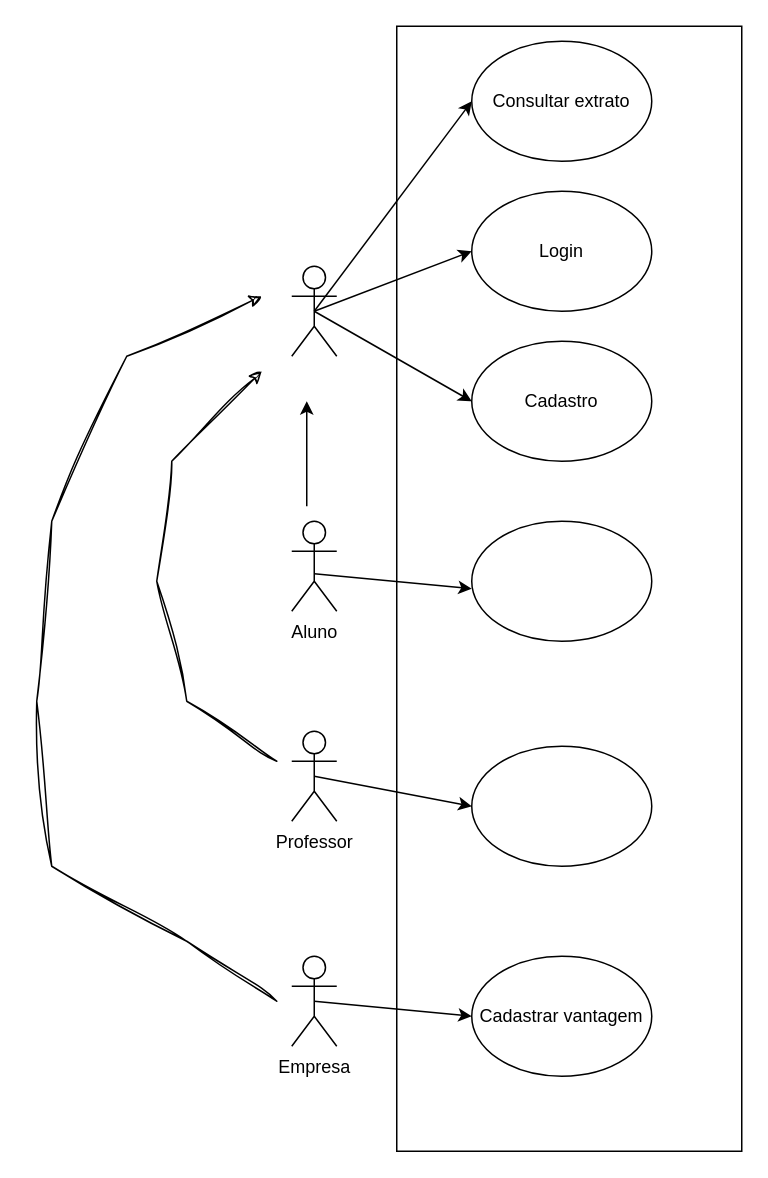
Some shapes in this 768 by 1178 pixel diagram are drawn without their labels. The shapes that lost their labels are listed below. From the top down, each one's centre as x and y in pixels, then its label:
point (313, 310): Usuário
point (561, 580): Trocar moedas
point (561, 805): Enviar moedas
